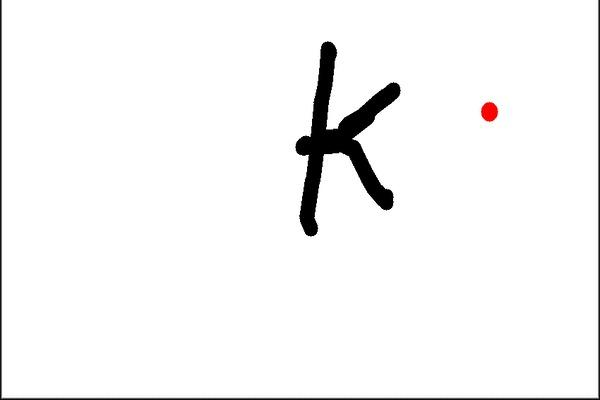K: (289, 36, 405, 241)
